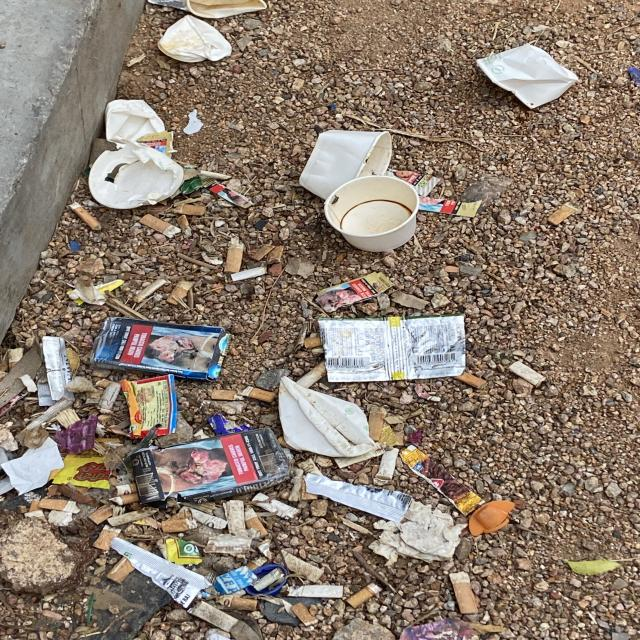paper: (132, 429, 290, 505), (87, 99, 183, 209), (90, 317, 230, 380), (278, 377, 376, 458), (324, 175, 419, 251), (477, 43, 579, 108), (299, 129, 392, 199), (157, 14, 231, 61), (315, 272, 393, 312)
wrapper: (317, 315, 466, 383), (305, 474, 413, 523), (120, 375, 176, 438), (52, 455, 109, 490), (163, 539, 201, 566)
